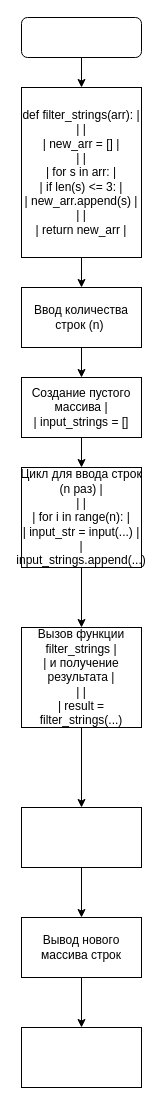
This 163x1105 diagram has some shape labels left out. Here are the shapes that lost their labels. From the top down, the centre of each, then its label:
At pixel 81 37: "Начало программы".
At pixel 81 837: "Вывод исходного массива строк".
At pixel 81 1057: "Конец программы".
